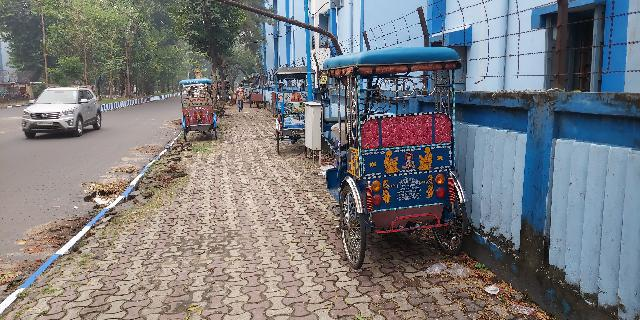Car: (21, 83, 102, 134)
Rickshaw: (320, 56, 472, 259), (268, 61, 310, 157), (175, 79, 220, 144)
